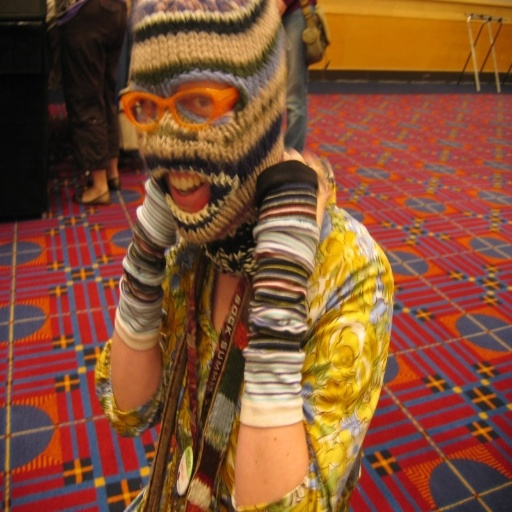hand: (259, 144, 330, 246)
